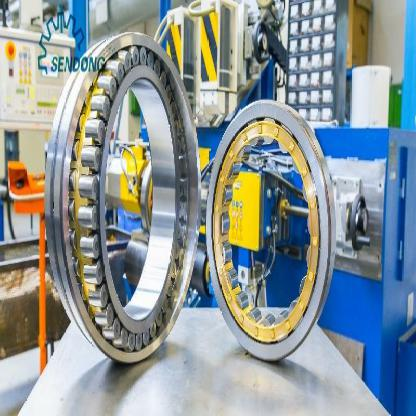FOD: (43, 28, 202, 367), (204, 93, 338, 367)
